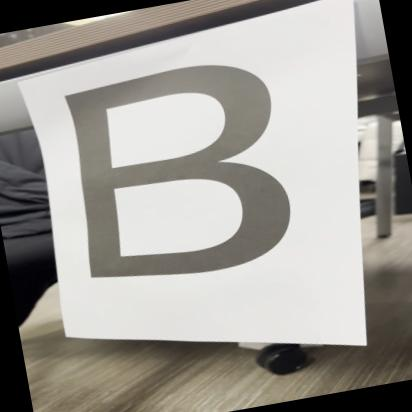seat: (46, 38, 332, 306)
